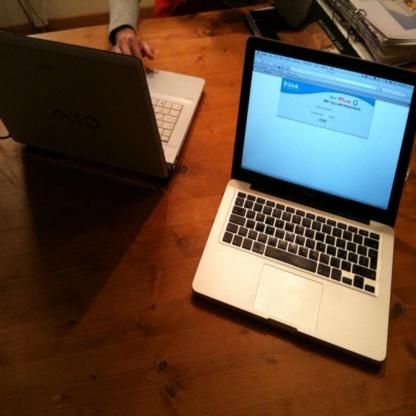board: (190, 36, 416, 362), (1, 31, 205, 179)
